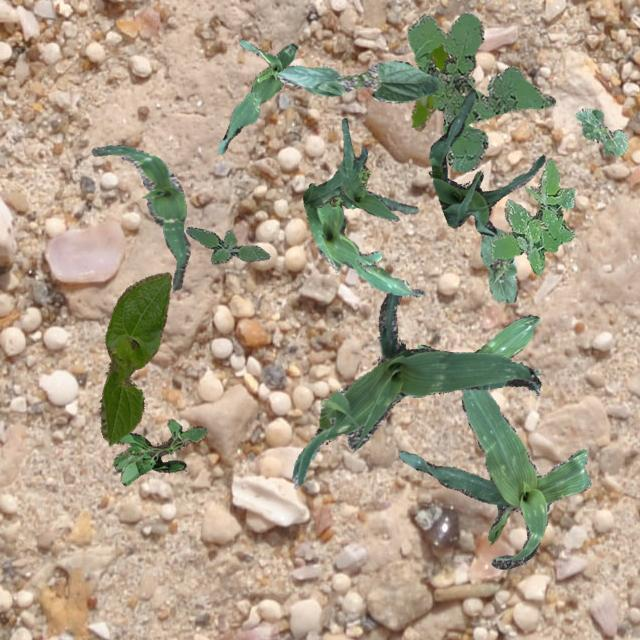crop: (292, 290, 540, 488), (398, 388, 590, 568), (428, 88, 544, 235), (90, 144, 188, 290), (304, 194, 426, 296), (98, 272, 170, 444), (302, 118, 398, 220), (216, 39, 296, 152), (417, 314, 539, 374), (276, 60, 438, 102), (479, 228, 516, 302), (574, 108, 626, 156)
weed: (406, 10, 554, 172), (491, 156, 574, 274), (111, 418, 206, 484), (410, 42, 448, 130), (184, 226, 270, 264), (329, 164, 368, 206)
